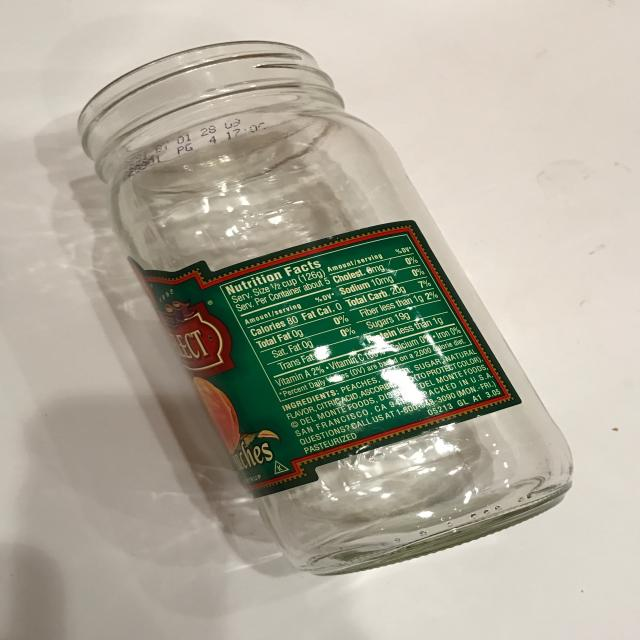glass: (76, 39, 574, 576)
